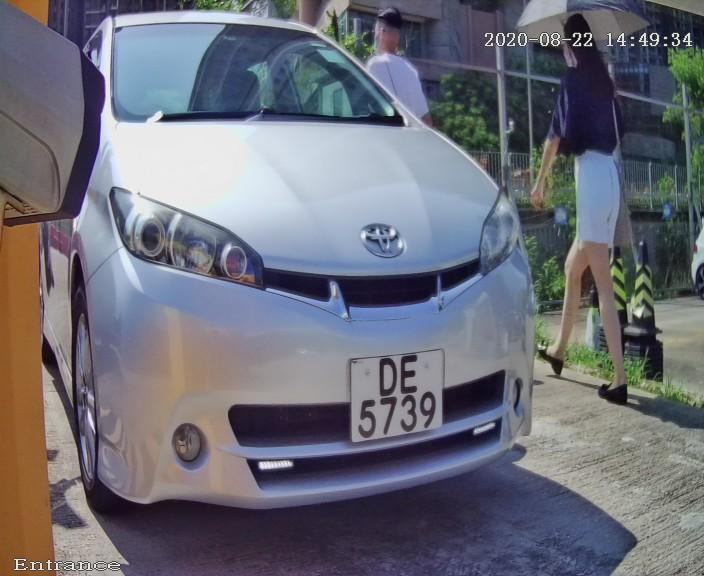Car: (35, 1, 579, 576)
License Plate: (340, 332, 453, 458)
